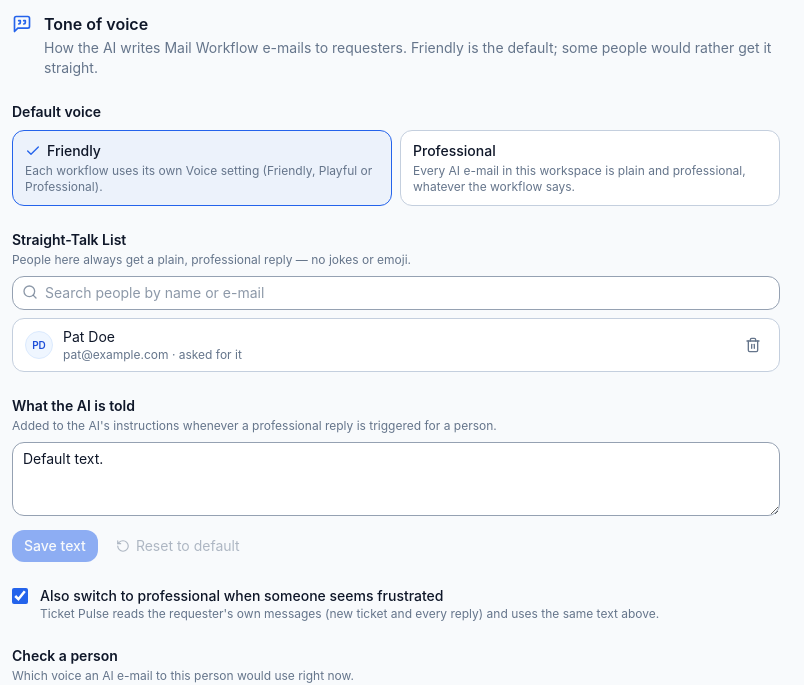
Test: ToneOfVoicePanel › adds a person found by search, with a note
Expected: the text "Pat Doe" is shown, [63,328,115,345]
In the field labelled "Search people": (396, 293) [12,276,780,310], type "sam"
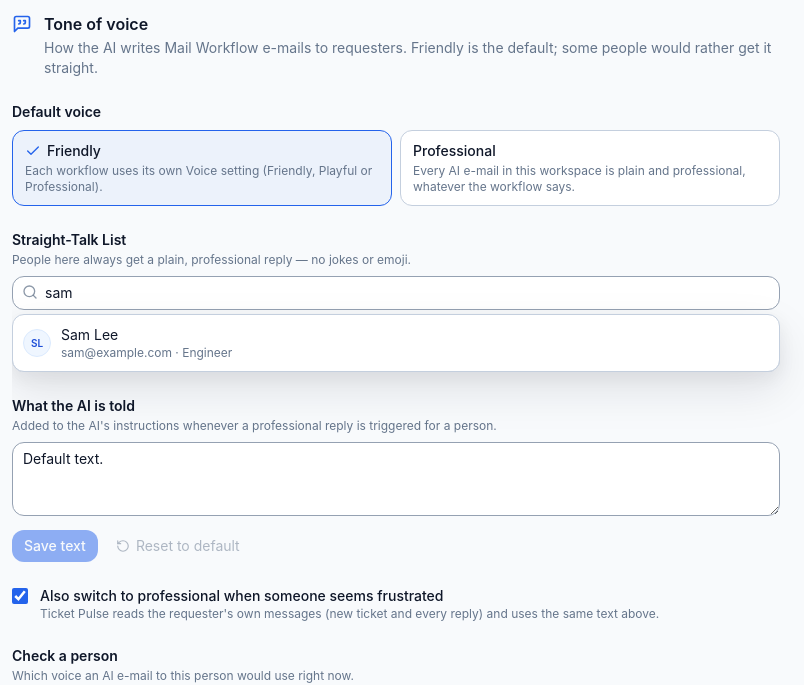
Click the option "SL Sam Lee sam@example.com · Engineer": (90, 334) [13,319,779,367]
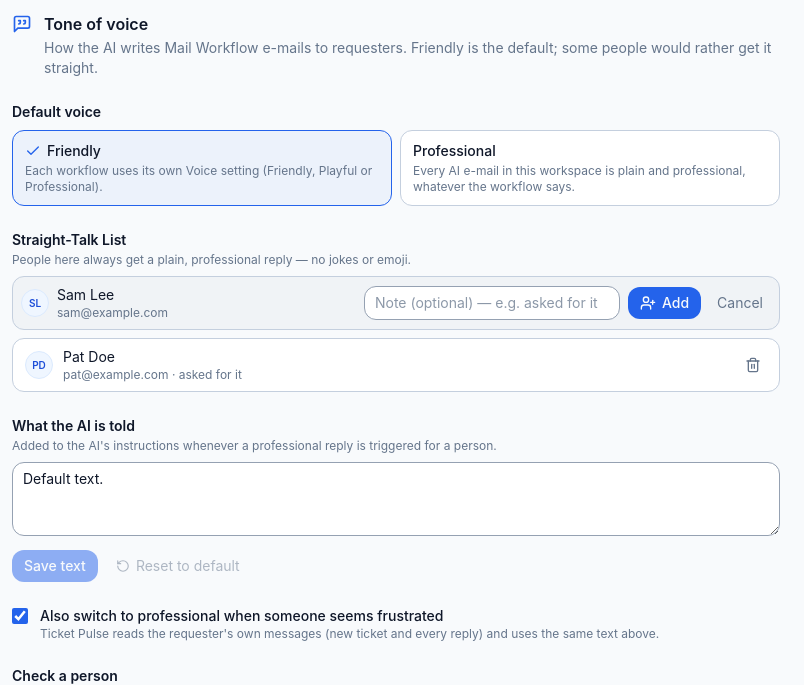
In the field labelled "Note": (492, 303) [364,286,620,320], type "prefers formal"
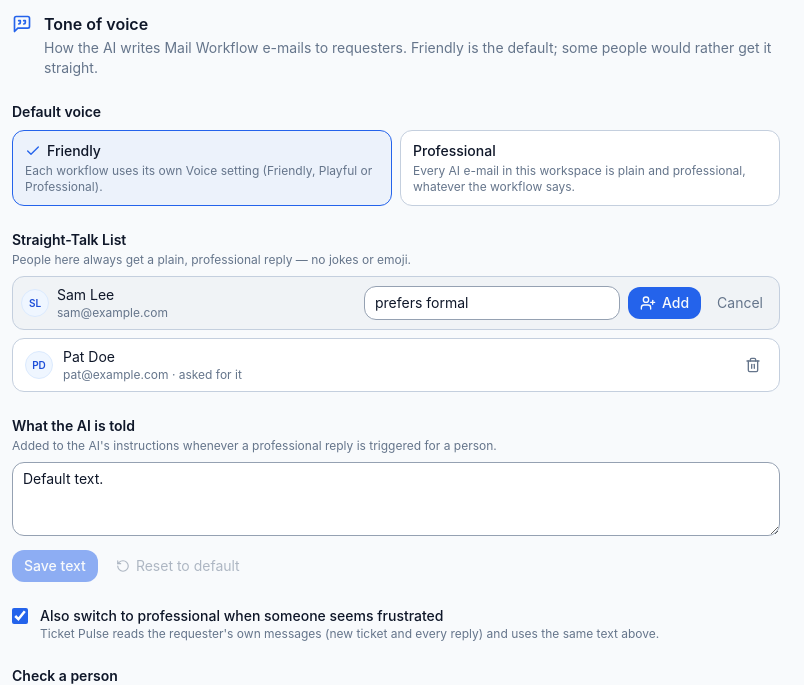
Click the button "Add": (665, 303) [628,287,701,319]
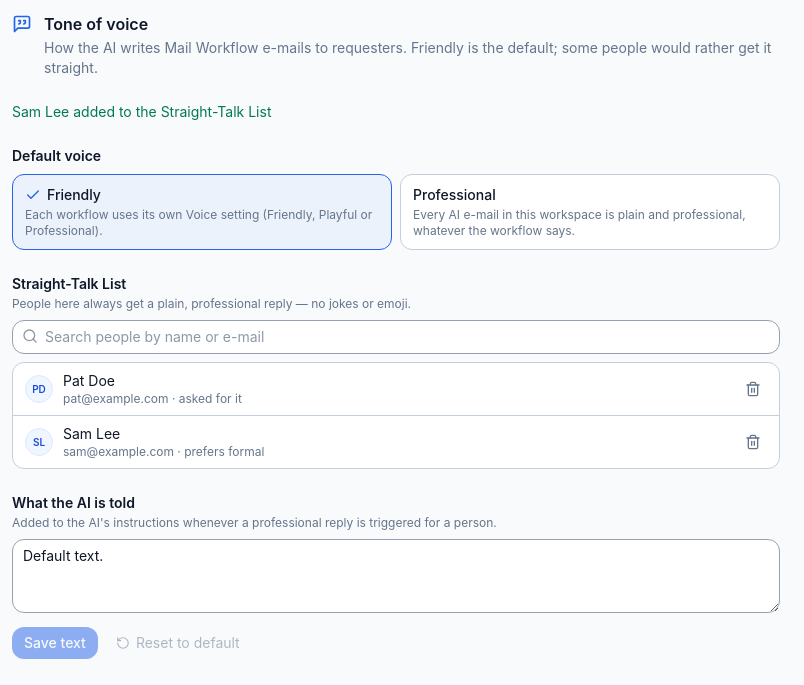
Expected: the text "Sam Lee" is shown, [63,425,120,442]
